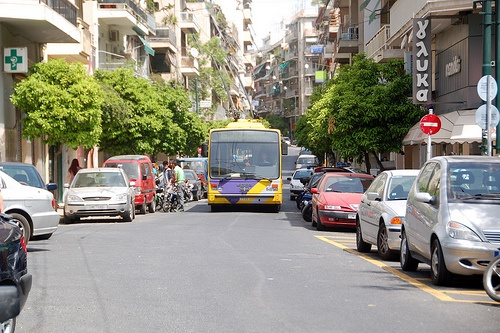non-vehicle: (163, 182, 177, 211), (182, 179, 193, 201), (155, 192, 164, 210)
